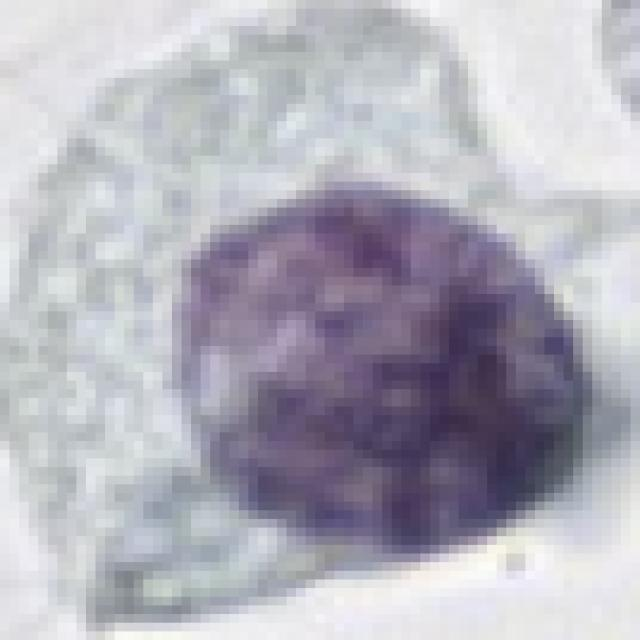cytoplasm: (0, 0, 630, 631)
nucleus: (115, 109, 634, 621)
